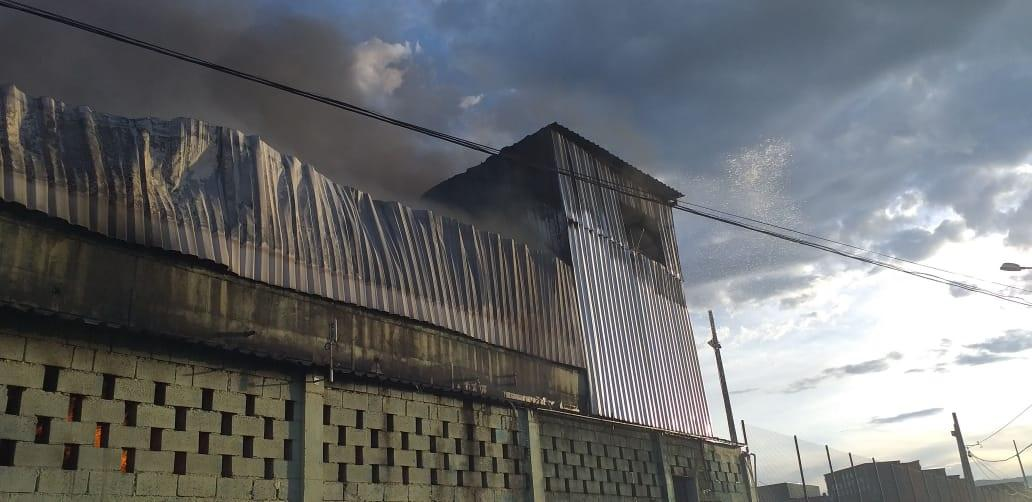smoke: (76, 21, 346, 125), (704, 51, 819, 150)
